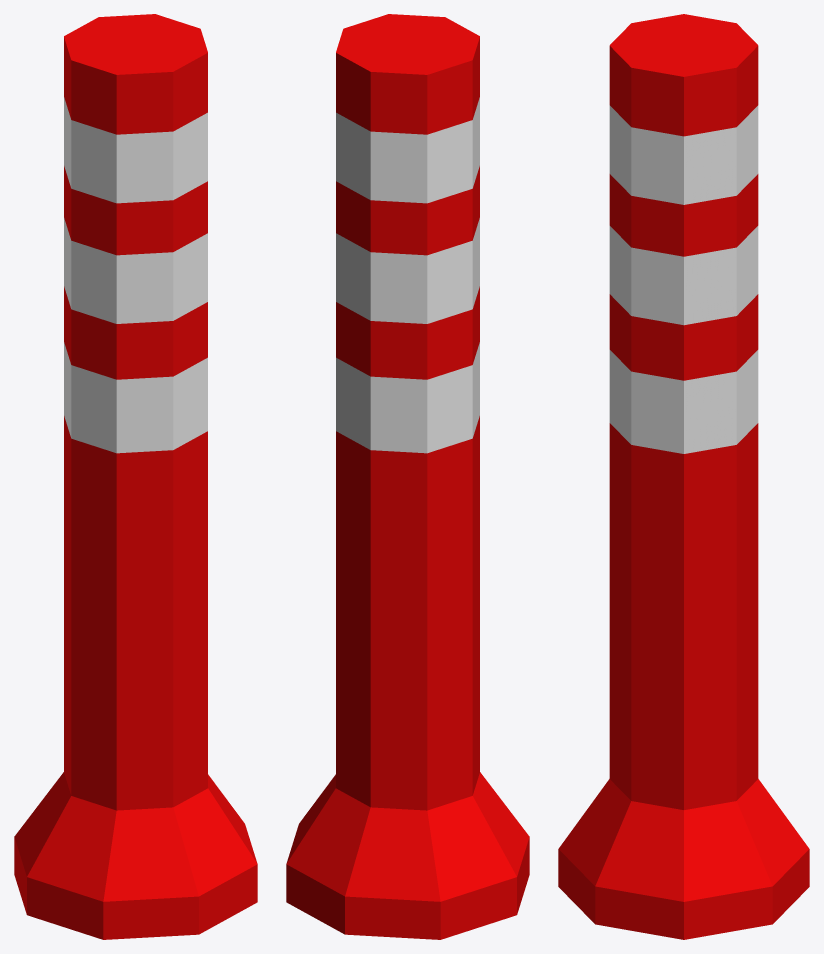
The model's file is Bollard.FBX.
3 views of the same model, side by side, from view 1: azimuth 30°, elevation 25°; view 2: azimuth 150°, elevation 25°; view 3: azimuth 270°, elevation 25° (orthographic).
Parts seen in each view (by area): view 1: bollard; view 2: bollard; view 3: bollard.
Boxes of the visible parts, x1,y1,x2,y2 form: bollard: (14, 14, 257, 939); bollard: (286, 14, 529, 939); bollard: (558, 14, 809, 939).
Bounding box in the file's own units: 6.79 × 25.12 × 6.79.
